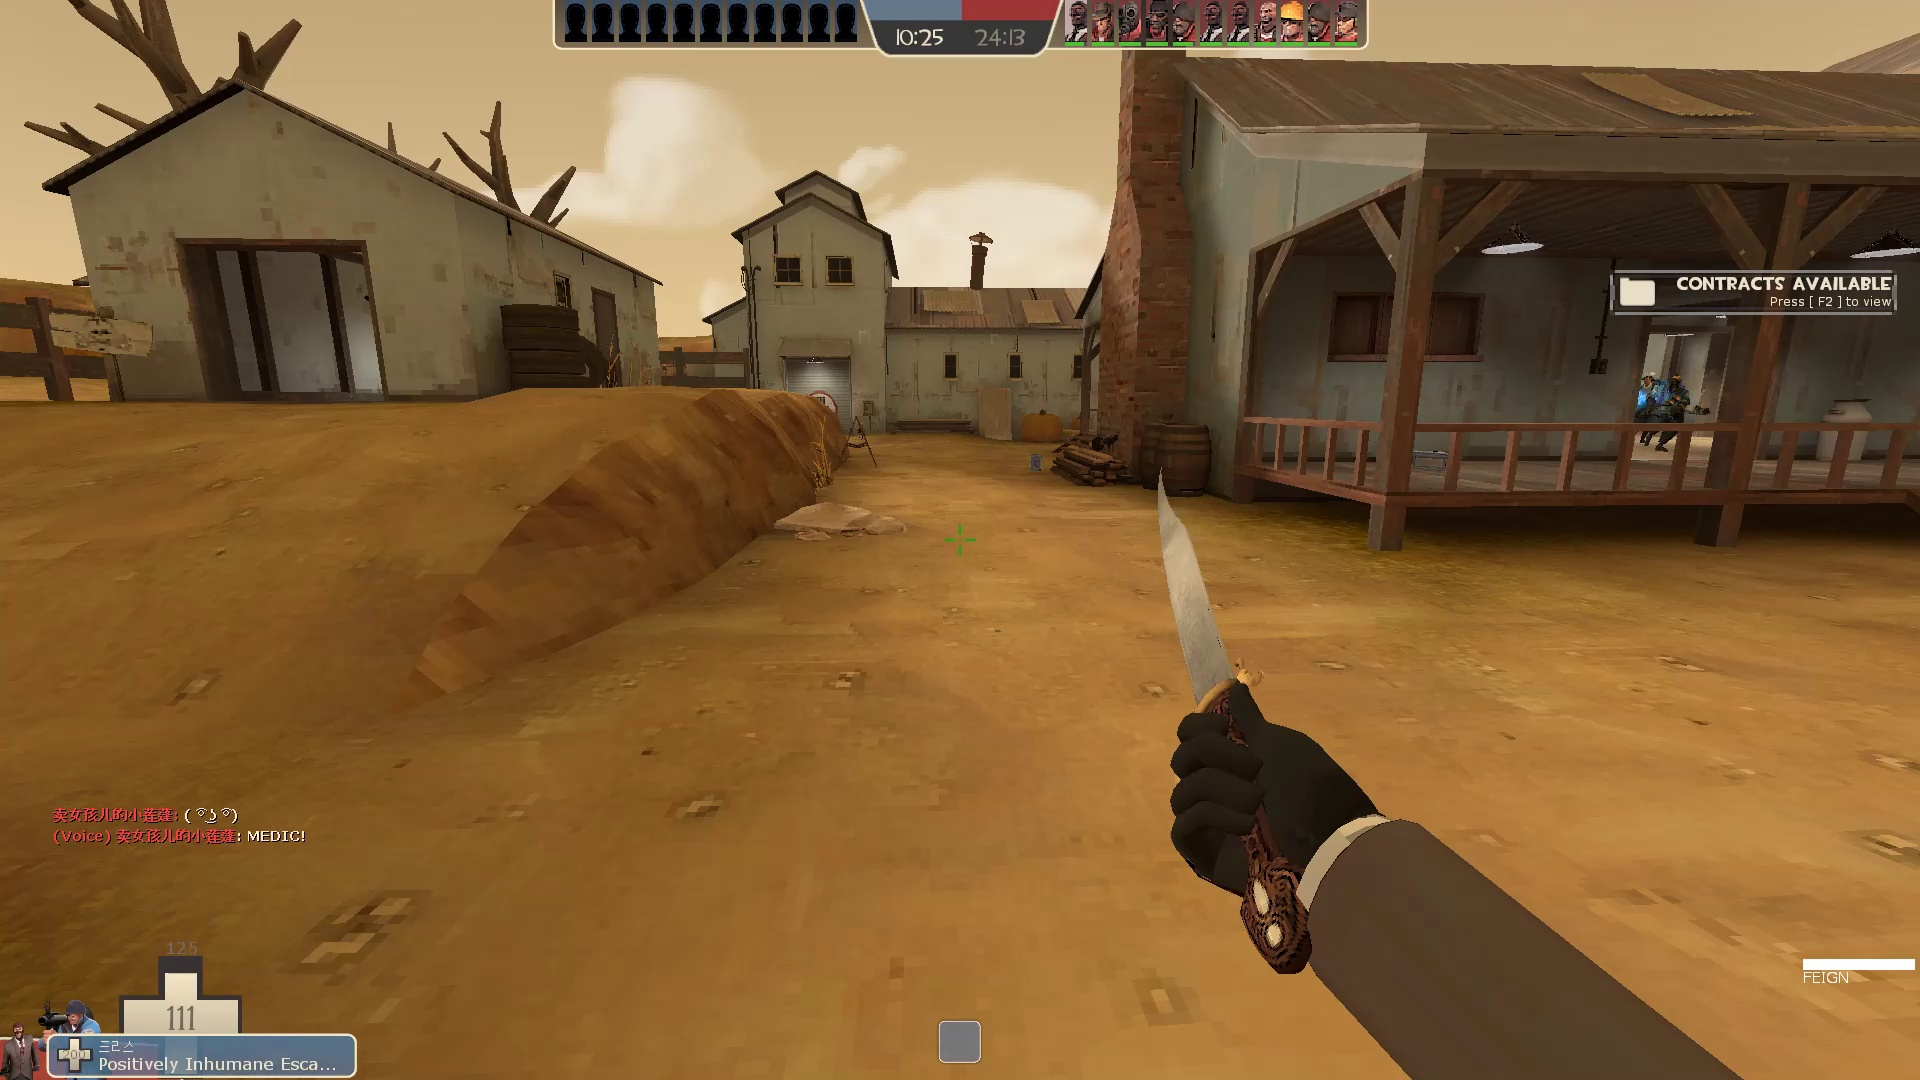blu_medic: (1634, 369, 1671, 444)
blu_pyro: (1640, 371, 1705, 462)
